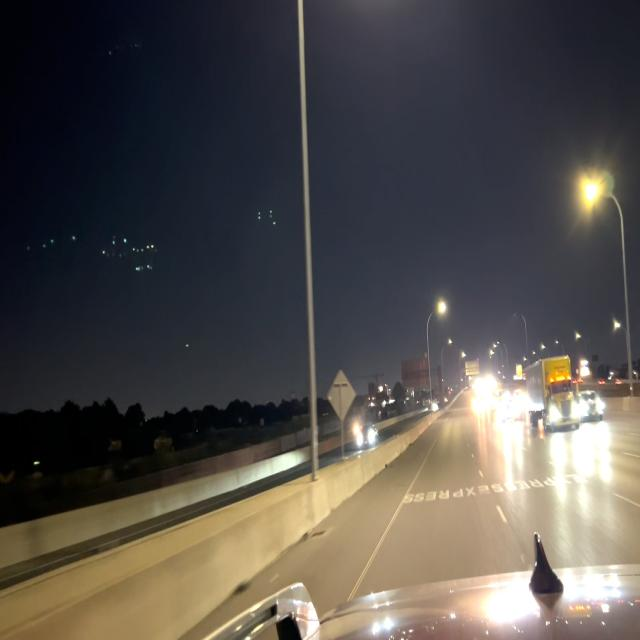back-of-sign: (327, 367, 356, 421), (400, 354, 430, 394)
